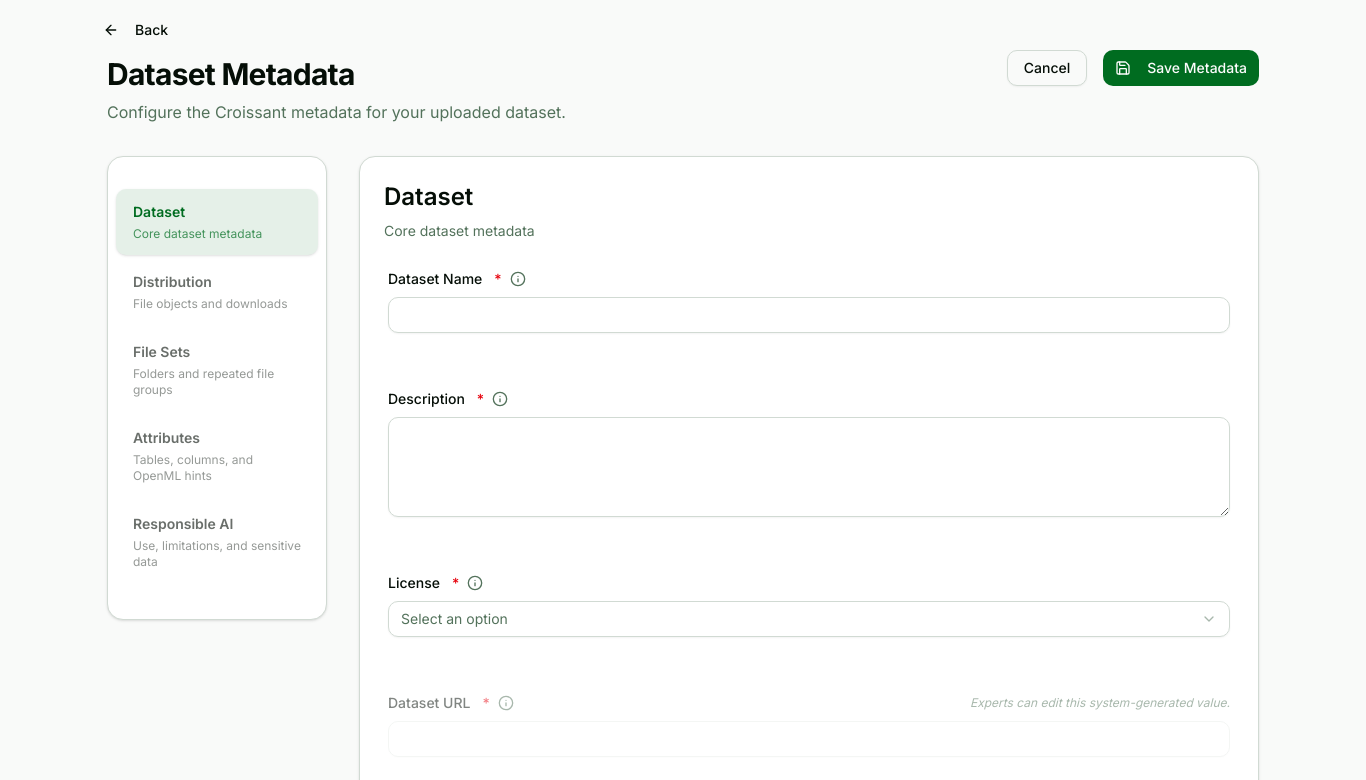
Test: CroissantMetadataPage › shows the Distribution tab with empty state when no items are added
Click the tab "Distribution File objects and downloads" at [217, 292], box [116, 259, 318, 325]
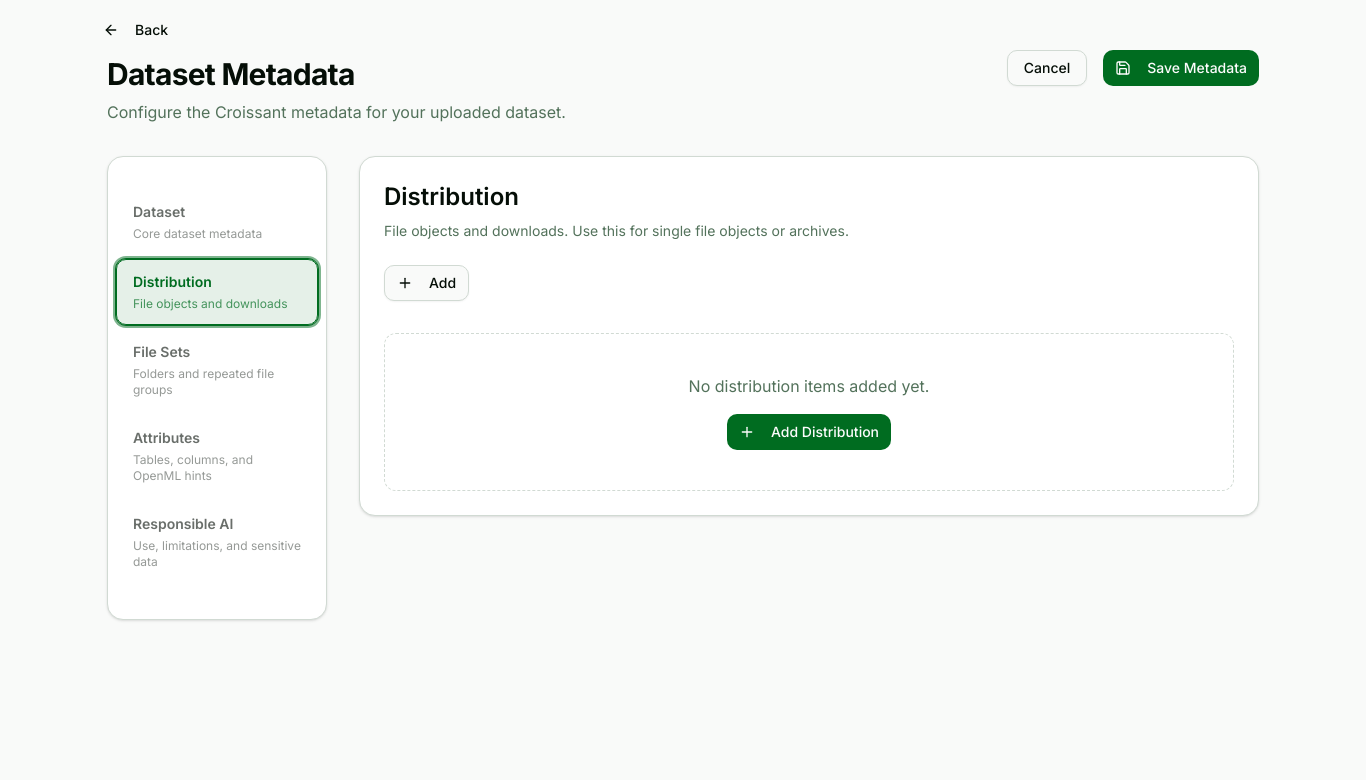
Check: the text "No distribution items added yet." is shown, box [689, 376, 929, 396]
Check: the button "Add Distribution" is shown, box [727, 414, 891, 450]
